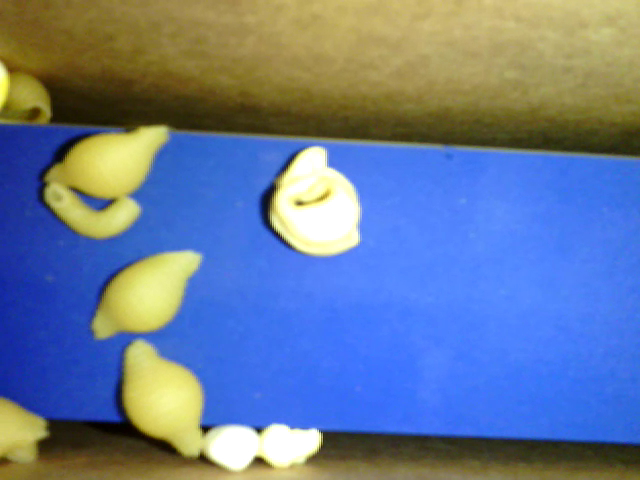elbow: (46, 181, 143, 241)
shell: (88, 247, 206, 347), (43, 124, 175, 201), (124, 339, 205, 460), (1, 70, 58, 131)
tortellini: (262, 144, 366, 258)
